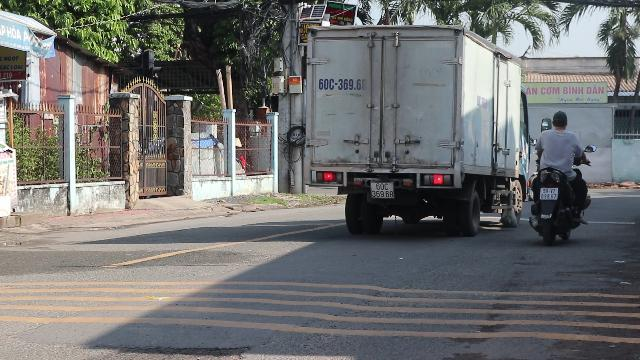licenseplate: (540, 188, 556, 198)
motorcyclist: (527, 108, 591, 244)
nohelmet: (550, 110, 568, 130)
